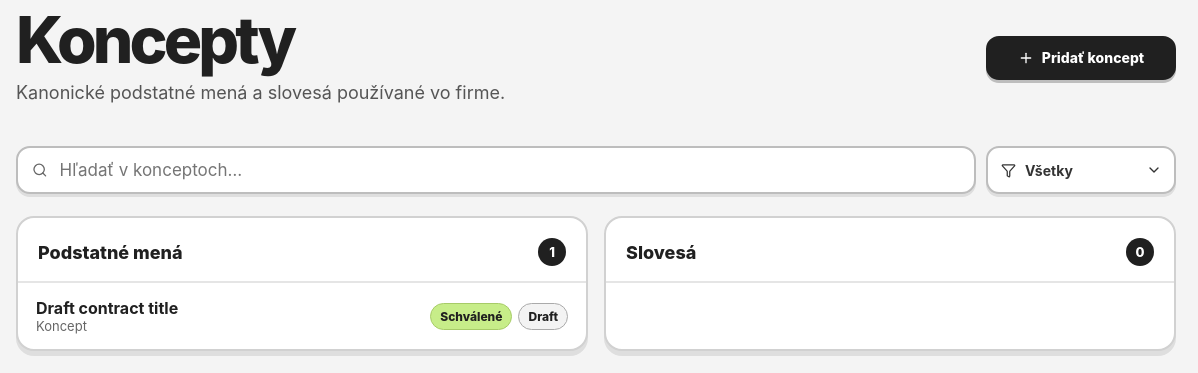
Test: LibraryPage › renders the revision selected by each status filter when approved and draft titles differ
Click the button with aria-label "Filtrovať podľa stavu: Všetky".
click(1081, 170)  # box [986,146,1176,194]
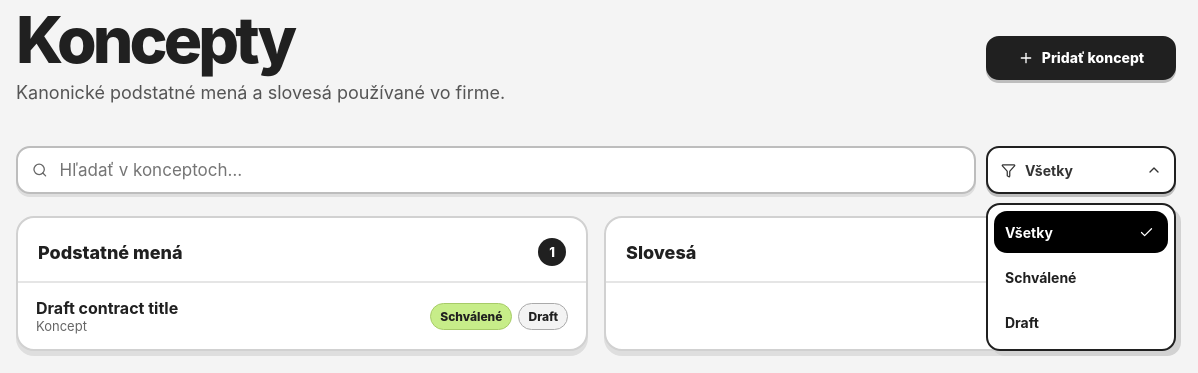
Click the option "Schválené".
click(1081, 277)  # box [994,256,1168,298]
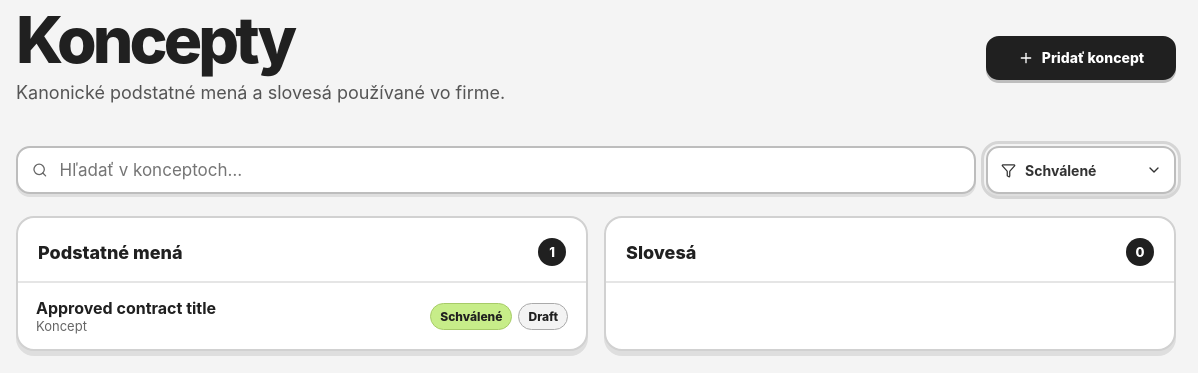
Expected: the link "Draft contract title" is gone
Click the button with aria-label "Filtrovať podľa stavu: Schválené".
click(1081, 170)  # box [986,146,1176,194]
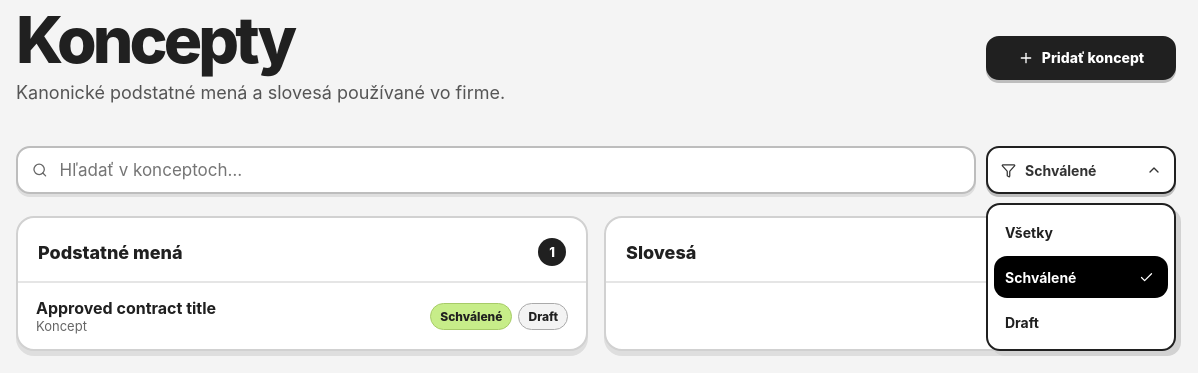
Click the option "Draft".
click(1081, 322)  # box [994,301,1168,343]
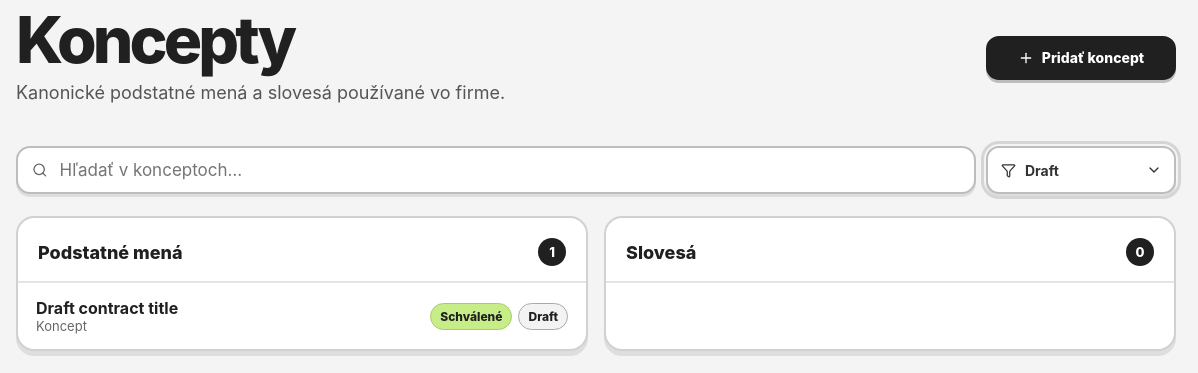
Expected: the link "Approved contract title" is gone
